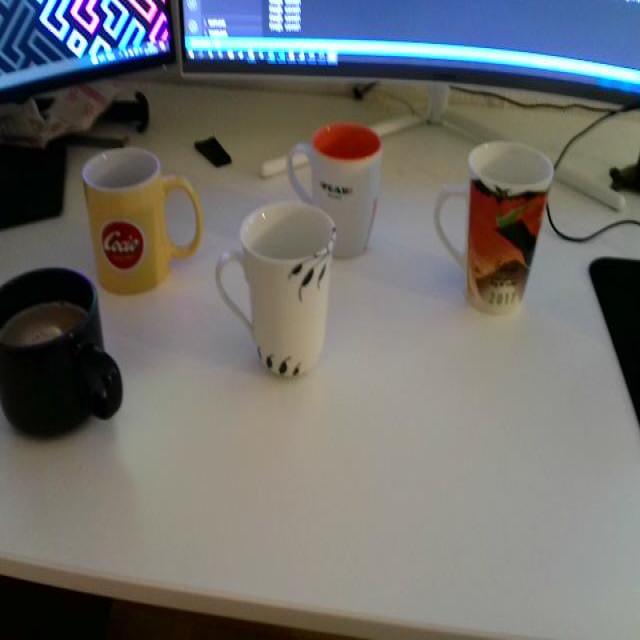cup: (429, 117, 569, 315), (66, 135, 211, 290), (216, 194, 336, 379), (289, 99, 389, 263)
